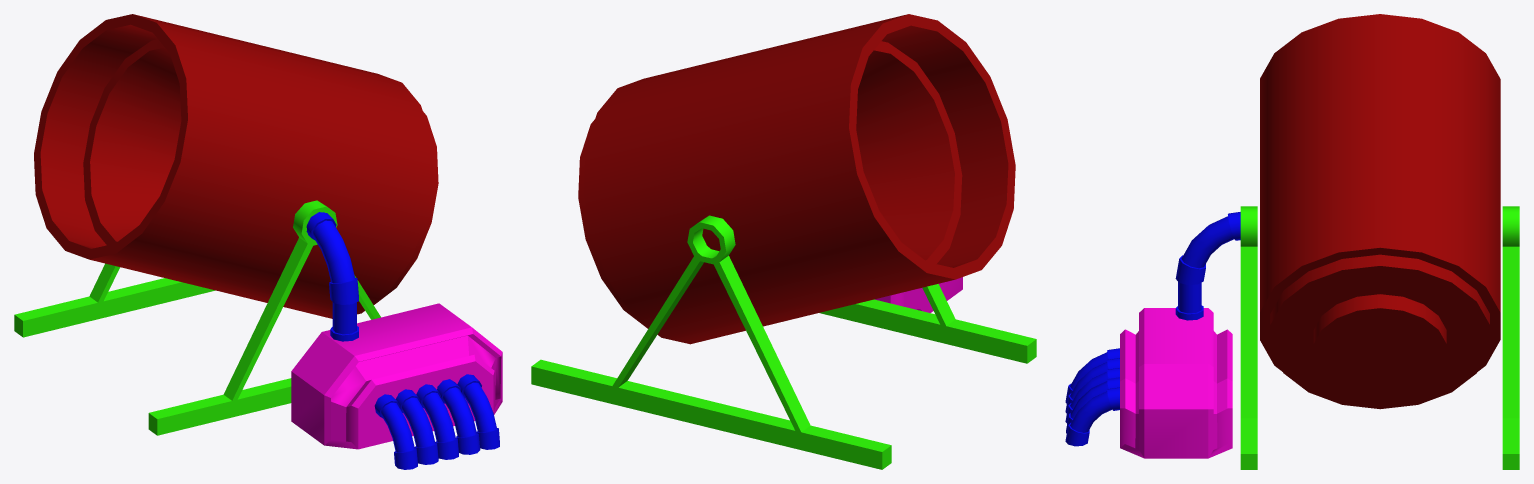
File: LP_Spotlight_Mesh.FBX
3 renders of one model, left to right at view 1: azimuth 30°, elevation 25°; view 2: azimuth 150°, elevation 25°; view 3: azimuth 270°, elevation 25°, orthographic. The views are drawn at different scales.
Visible parts, largest first — view 1: L_spot light; view 2: L_spot light; view 3: L_spot light.
Part boxes in pixels (<box>): L_spot light: <box>14,14,502,469</box>; L_spot light: <box>531,14,1036,469</box>; L_spot light: <box>1065,14,1519,469</box>.
Size of the model in its own units: 36.3 by 35.37 by 42.36.
